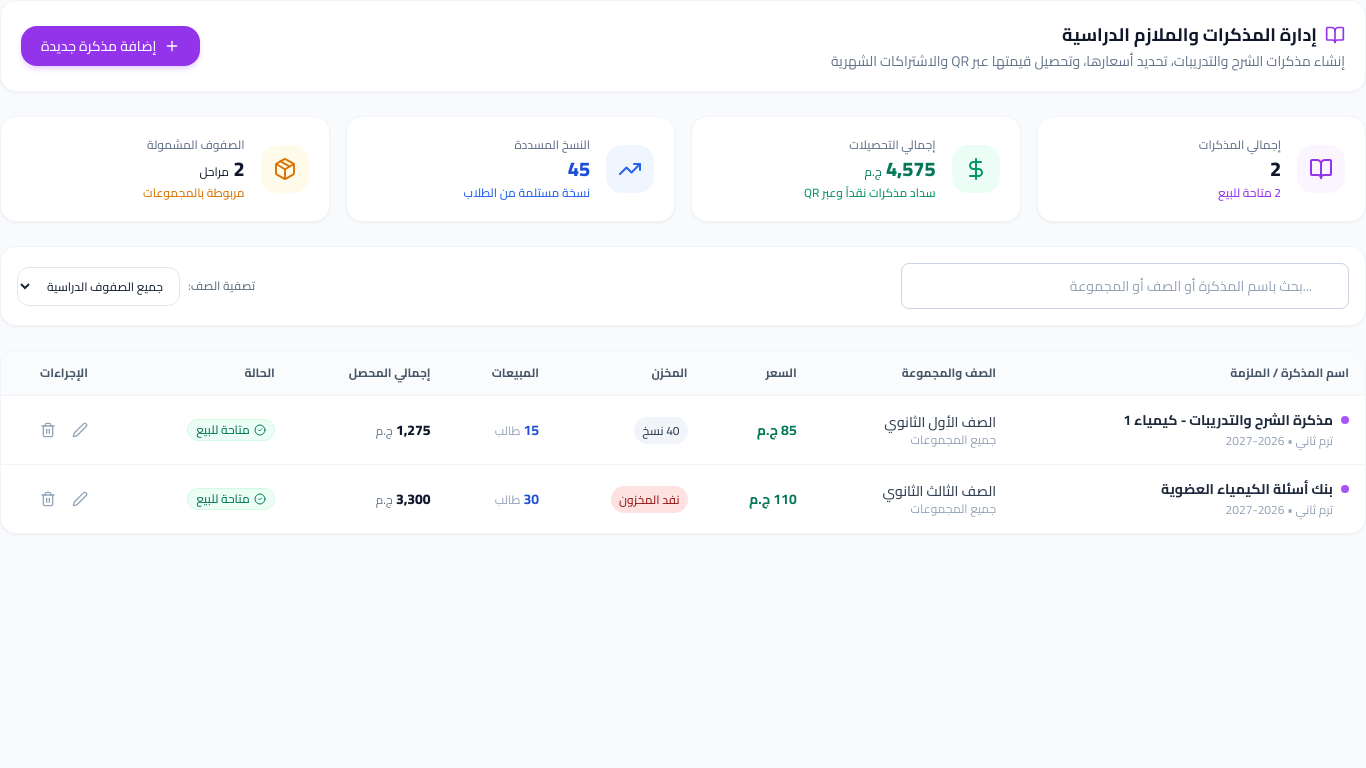
Test: BookletManagementSection Component › opens create booklet modal when clicking add button
Click the button "إضافة مذكرة جديدة": {"x": 111, "y": 46} 21,26 -> 200,66
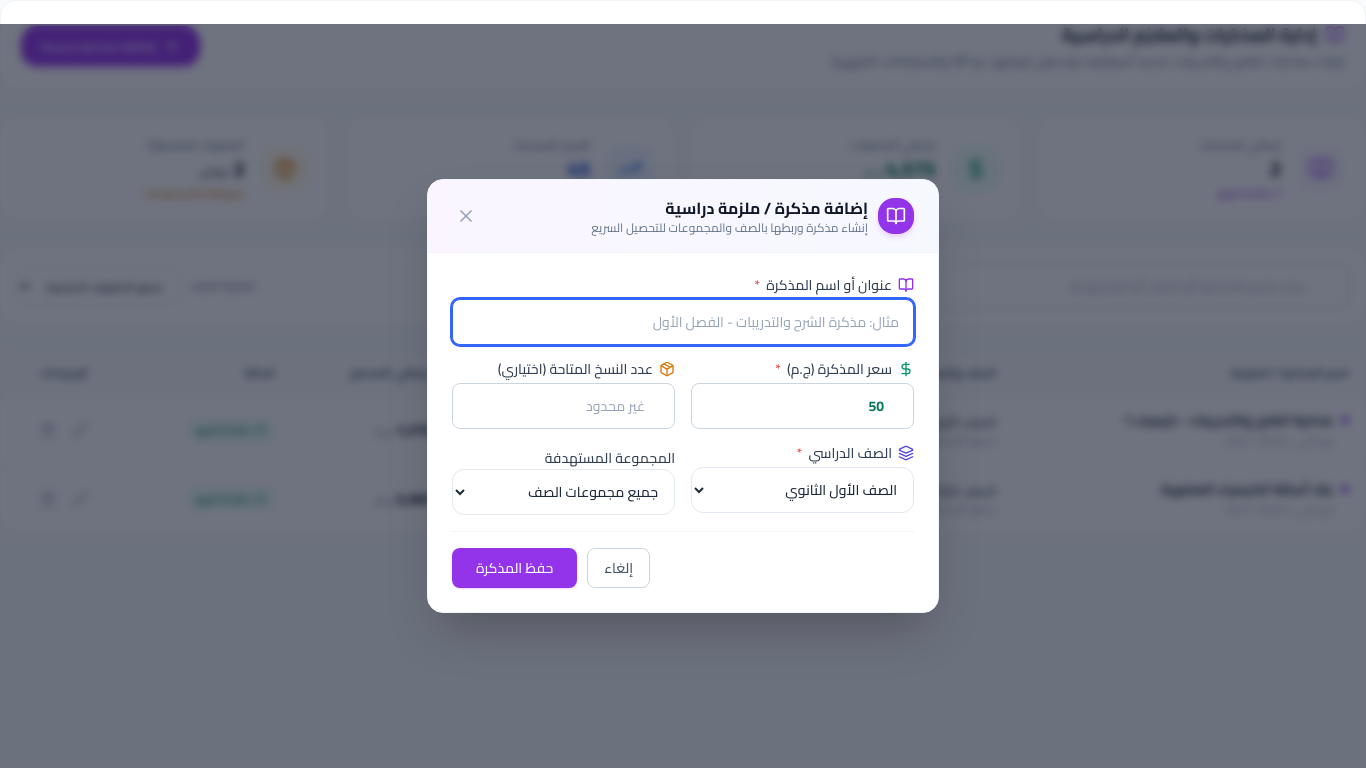
Now the heading "إضافة مذكرة / ملزمة دراسية" is shown, box 665,193 -> 868,223
Now the text "عنوان أو اسم المذكرة *" is shown, box 754,272 -> 914,298
